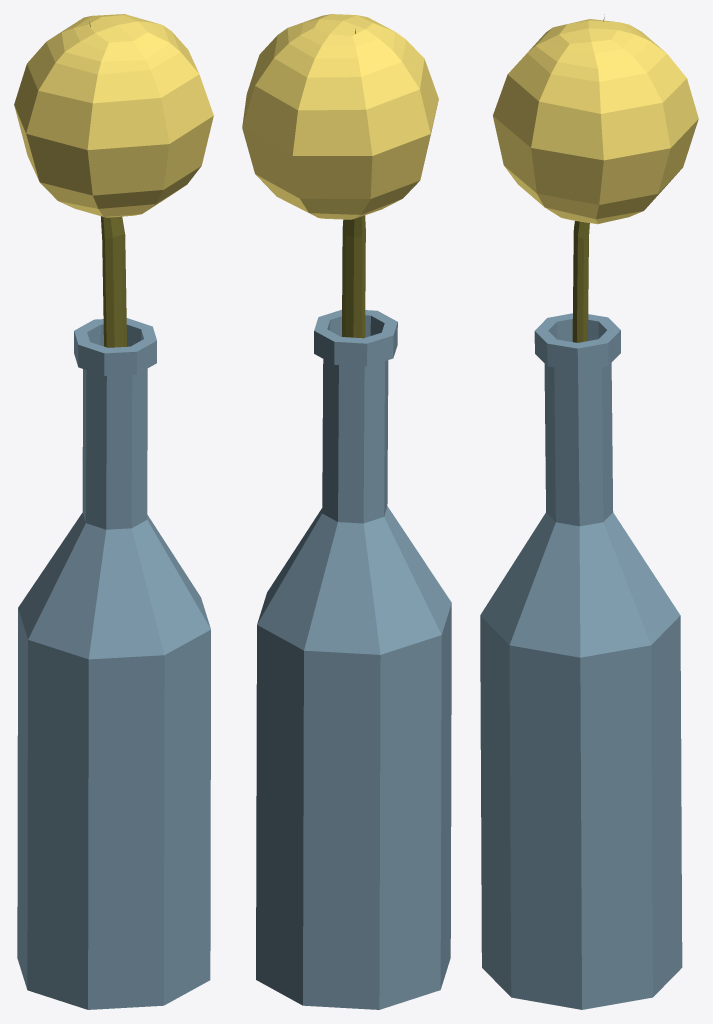
Rendered from Bottle_with_flower.fbx.
The picture shows the model from 3 angles, left to right: view 1: azimuth 30°, elevation 25°; view 2: azimuth 150°, elevation 25°; view 3: azimuth 270°, elevation 25°; orthographic projection.
Parts seen in each view (by area): view 1: Bottle_with_flower; view 2: Bottle_with_flower; view 3: Bottle_with_flower.
Boxes of the visible parts, bbox=[...] form: Bottle_with_flower: bbox=[14, 14, 213, 1009]; Bottle_with_flower: bbox=[242, 14, 451, 1009]; Bottle_with_flower: bbox=[480, 14, 698, 1009].
Bounding box in the file's own units: 15.39 × 16.01 × 76.53.
